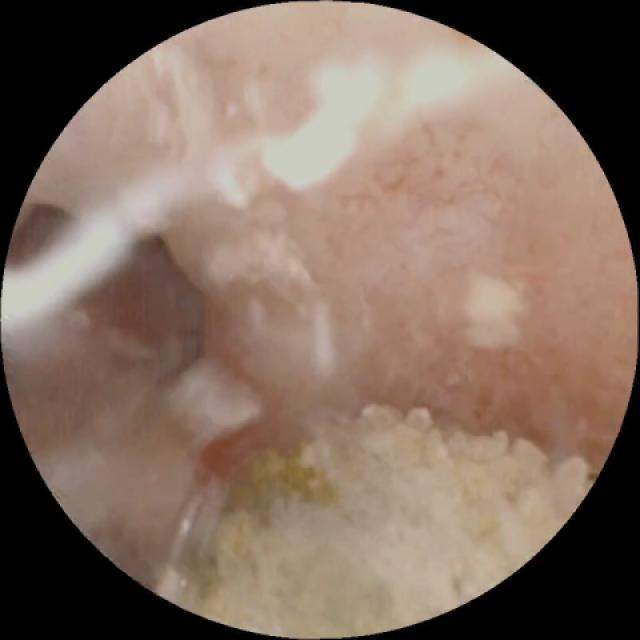stone: (168, 408, 588, 631)
tissue: (18, 11, 631, 563)
